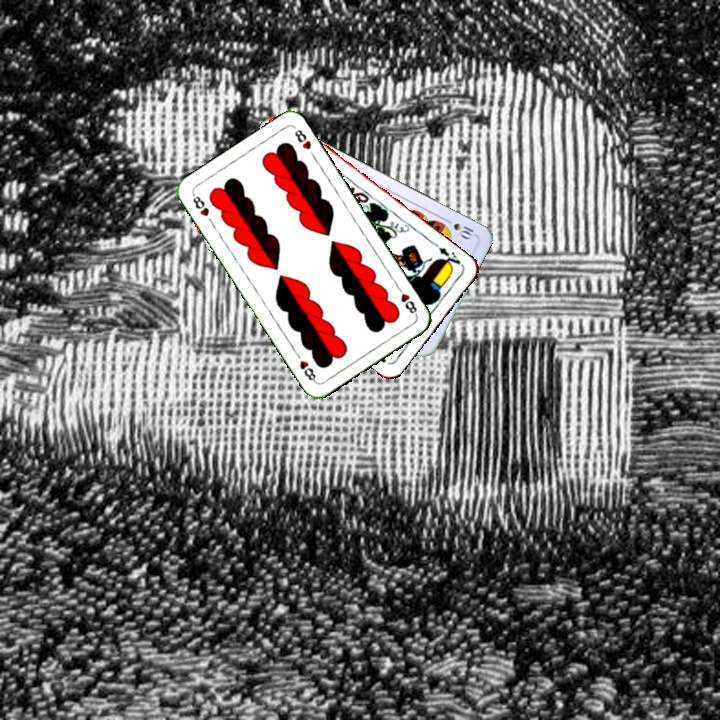EA: (430, 238, 464, 271)
H8: (393, 282, 420, 318), (188, 190, 212, 219)
S10: (440, 214, 478, 242)
